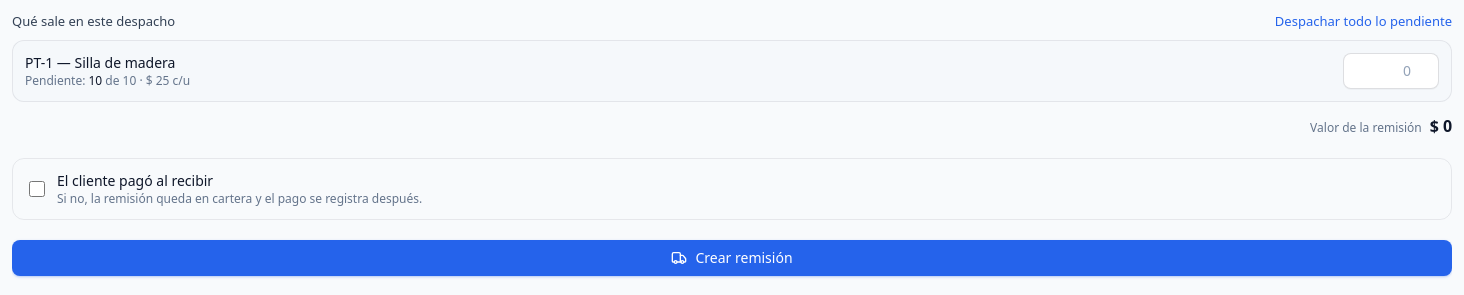
RemissionForm › fills every pending quantity with "Despachar todo lo pendiente" and shows the value
Click the button "Despachar todo lo pendiente".
click(1363, 22)  # box [1275, 12, 1452, 32]
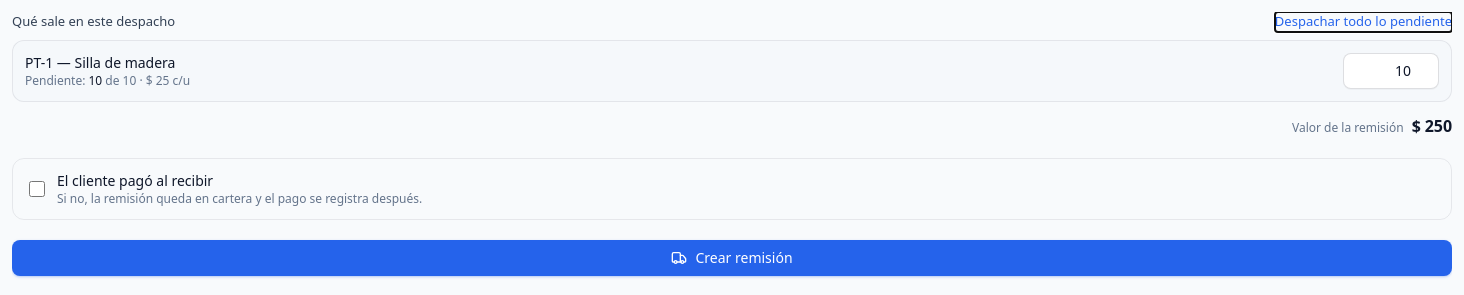
Result: the number field named "Cantidad a entregar de Silla de madera" holds "10" at [1343, 52, 1439, 88]
Result: the text "$ 250" is shown at [1412, 114, 1452, 138]
